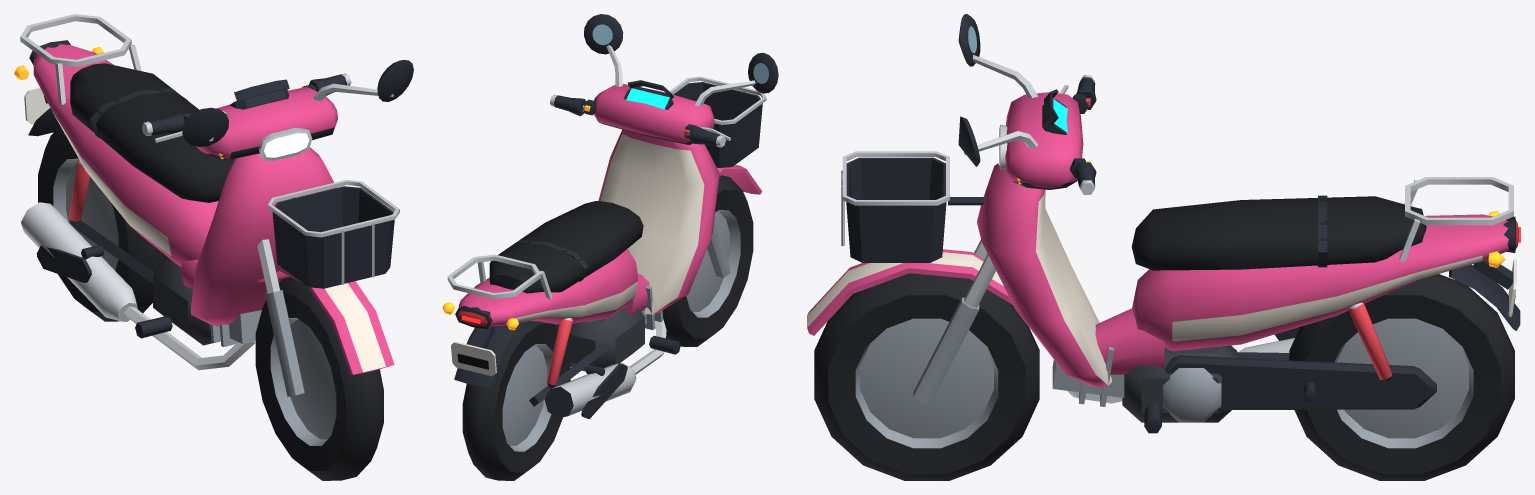
Rendered from bike_cub.glb.
The picture shows the model from 3 angles, left to right: view 1: azimuth 30°, elevation 25°; view 2: azimuth 150°, elevation 25°; view 3: azimuth 270°, elevation 25°; orthographic projection. The views are drawn at different scales.
Parts seen in each view (by area): view 1: frame, steer, wheel_F, wheel_R, mirror_L, mirror_R; view 2: frame, wheel_R, steer, wheel_F, mirror_L, mirror_R, dash; view 3: frame, wheel_F, wheel_R, steer, mirror_R, mirror_L.
Boxes of the visible parts, x1,y1,x2,y2 form: frame: [14, 14, 399, 370]; steer: [142, 73, 394, 396]; wheel_F: [255, 277, 383, 480]; wheel_R: [38, 126, 166, 321]; mirror_L: [313, 60, 413, 101]; mirror_R: [182, 107, 228, 146]; frame: [442, 76, 766, 418]; wheel_R: [462, 320, 570, 480]; steer: [550, 80, 761, 277]; wheel_F: [662, 175, 753, 346]; mirror_L: [584, 14, 623, 86]; mirror_R: [694, 52, 778, 105]; dash: [626, 88, 669, 109]; frame: [841, 151, 1520, 433]; wheel_F: [814, 273, 1039, 480]; wheel_R: [1289, 274, 1514, 480]; steer: [807, 75, 1096, 403]; mirror_R: [958, 14, 1037, 97]; mirror_L: [958, 116, 1037, 166].
Bounding box in the file's own units: 0.7604 × 1.18 × 1.86.
